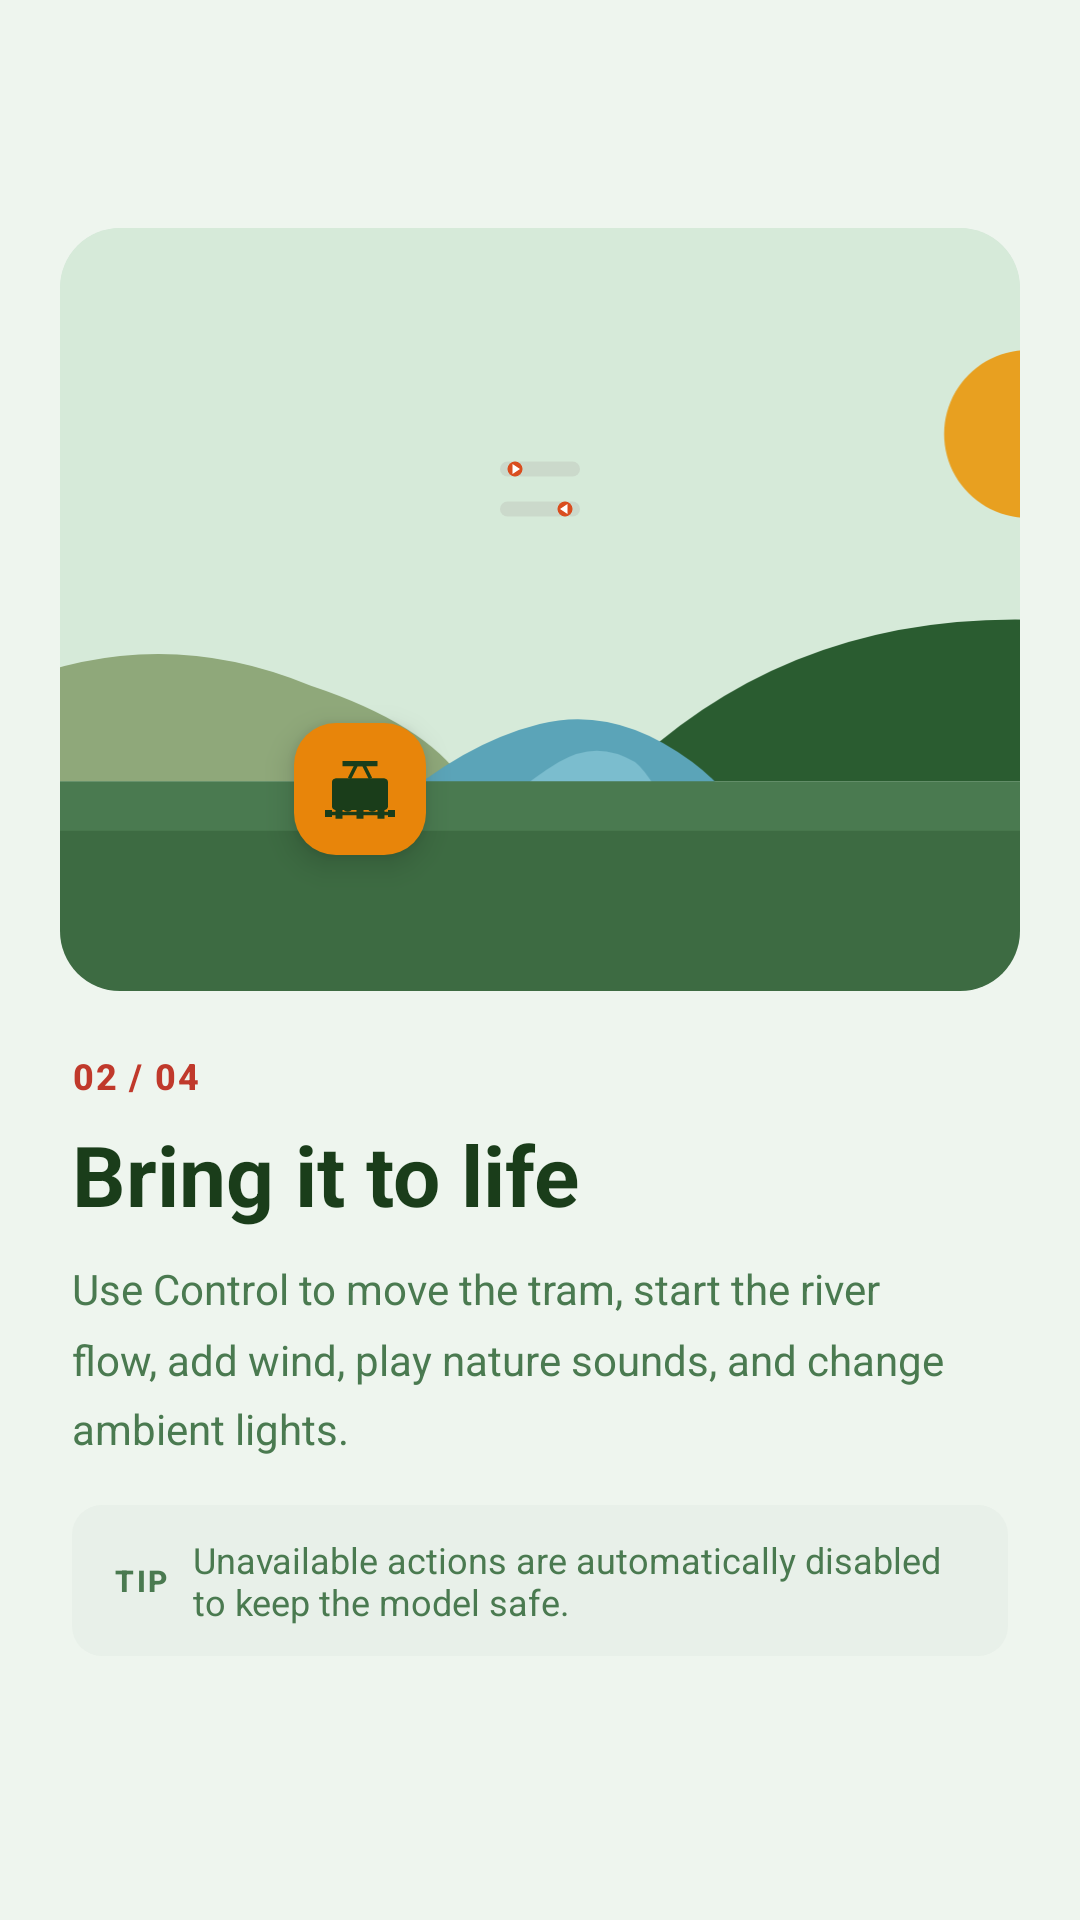

Screen size 1080*1920. Icon name, then its center in pixels as (x,y):
onboard sliders: (540,489)
tram: (360,790)
